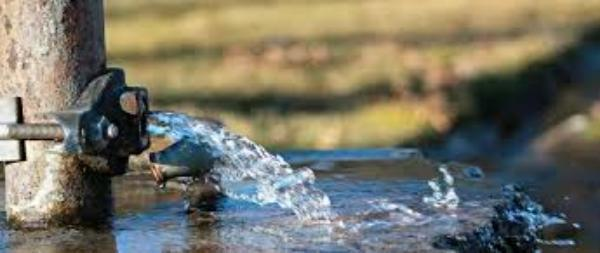pipe burst: (132, 106, 333, 219)
water accumulation: (0, 150, 518, 253)
